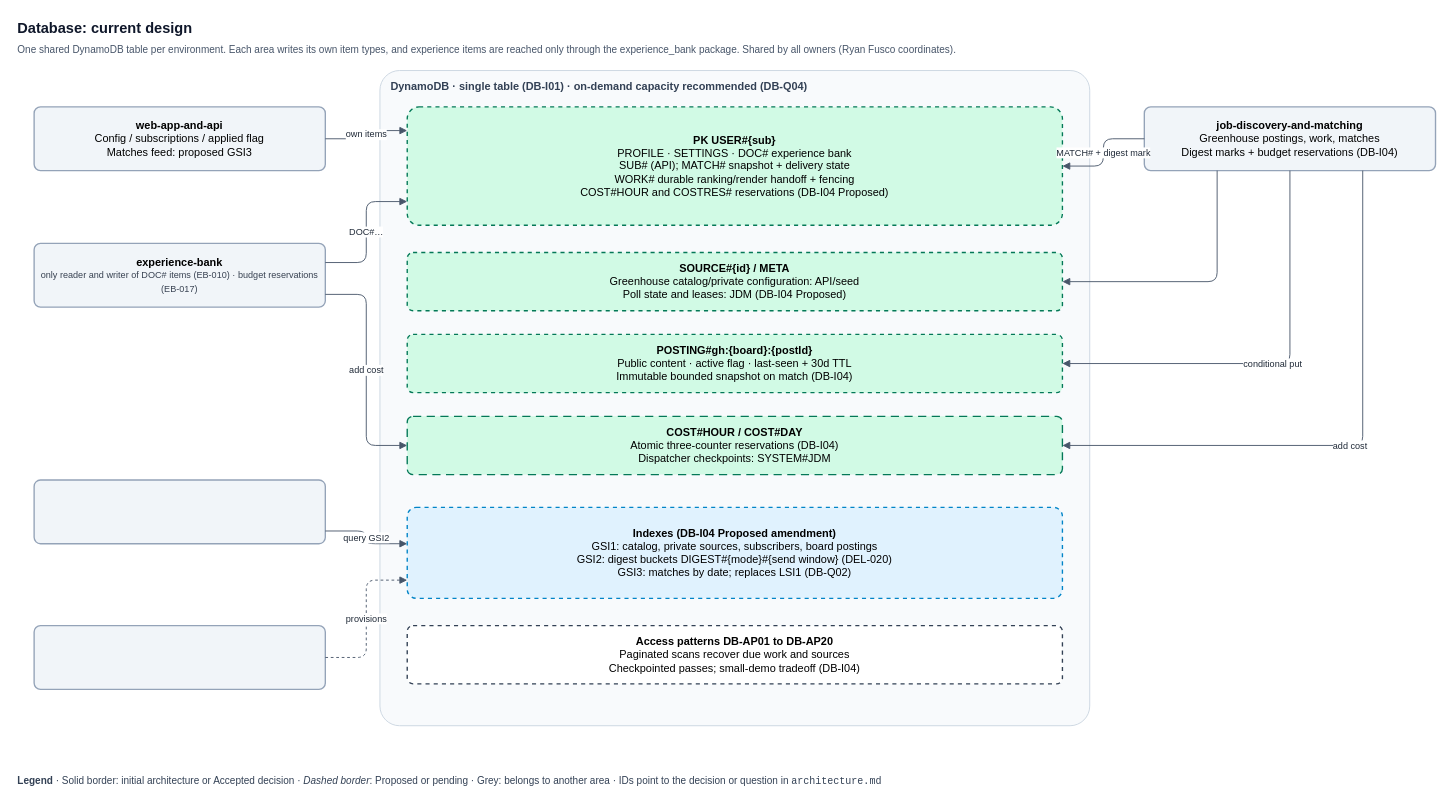
Some shapes in this 1451 by 808 pixel diagram are drawn without their labels. Each missing label, with the centre of its shape:
"build-and-operation provisions the table in each environment (OPS-I02)" goes at point (179, 657).
"delivery writes match delivery state · finds digests through GSI2" goes at point (179, 511).
